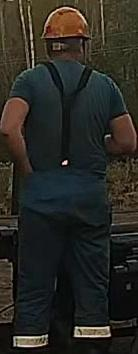helmet: (40, 6, 90, 40)
